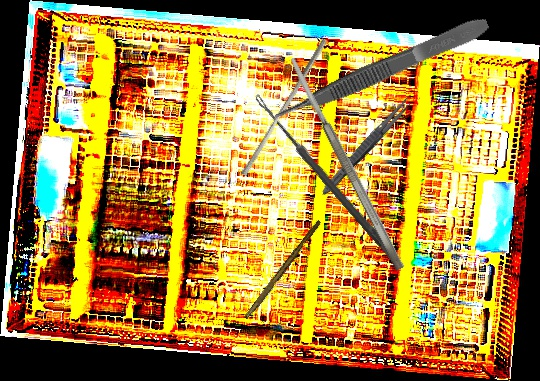Dressing Forceps: (317, 90, 418, 200)
Pusher: (240, 34, 328, 180)
Scalpel Handle: (243, 218, 323, 322)
Spatula Surgical: (286, 54, 407, 273)
Surgical Spoon: (251, 93, 401, 263)
Tissue Forceps: (269, 13, 493, 126)
